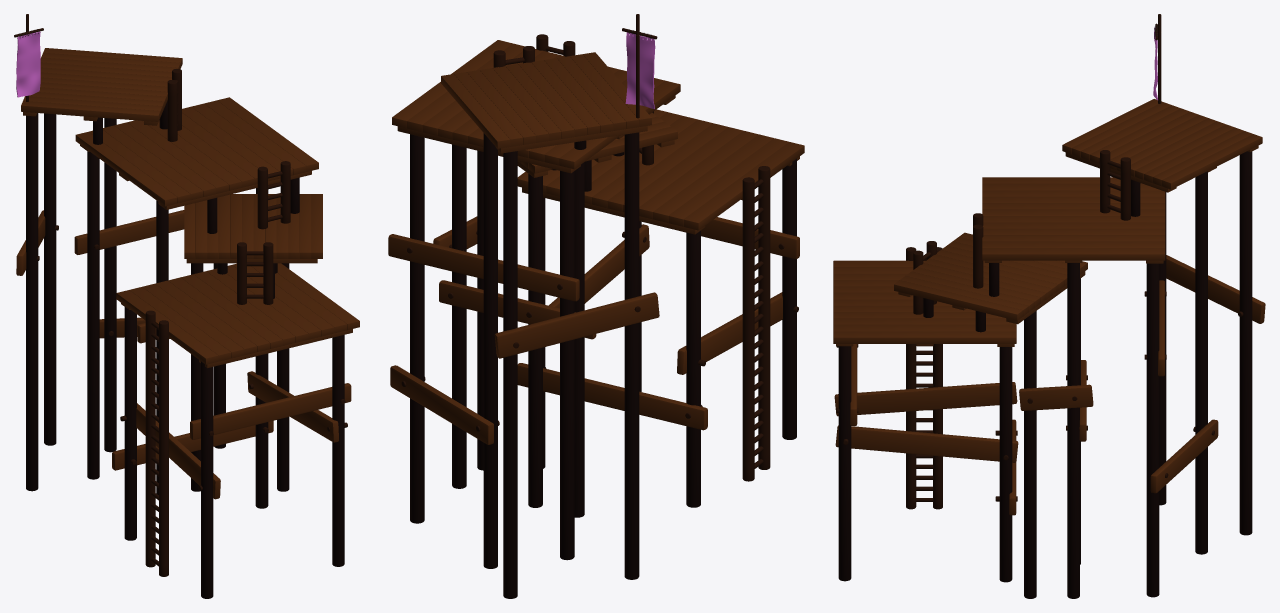
The model's file is platform.FBX.
3 views of the same model, side by side, from view 1: azimuth 30°, elevation 25°; view 2: azimuth 150°, elevation 25°; view 3: azimuth 270°, elevation 25° (orthographic). The views are drawn at different scales.
Parts seen in each view (by area): view 1: Cylinder083, Box032, Box033, Box043, Box034, Box031, Cylinder088, Cylinder089, Cylinder090, Plane001, Cylinder091; view 2: Cylinder083, Box043, Box033, Box034, Cylinder088, Box032, Plane001, Box031; view 3: Cylinder083, Box043, Box032, Box034, Box033, Box031, Cylinder088, Cylinder091, Cylinder090, Cylinder089.
Boxes of the visible parts, x1,y1,x2,y2 form: Cylinder083: (26,101,344,598); Box032: (75,97,318,209); Box033: (116,263,359,367); Box043: (16,210,351,499); Box034: (21,48,182,125); Box031: (184,194,322,263); Cylinder088: (145,310,168,576); Cylinder089: (237,242,273,304); Cylinder090: (257,161,290,229); Plane001: (16,31,40,97); Cylinder091: (167,69,181,141); Cylinder083: (410,132,796,598); Box043: (388,214,799,444); Box033: (517,109,804,234); Box034: (441,52,651,153); Cylinder088: (742,166,770,481); Box032: (392,40,680,173); Plane001: (625,32,655,109); Box031: (517,112,677,177); Cylinder083: (838,151,1252,598); Box043: (834,255,1265,515); Box032: (982,177,1165,263); Box034: (1062,99,1262,192); Box033: (833,260,1016,346); Box031: (894,232,1087,324); Cylinder088: (906,247,942,509); Cylinder091: (1100,150,1130,220); Cylinder090: (973,213,983,288); Cylinder089: (913,241,936,314).
Size of the model in its own units: 247 by 468 by 377.
